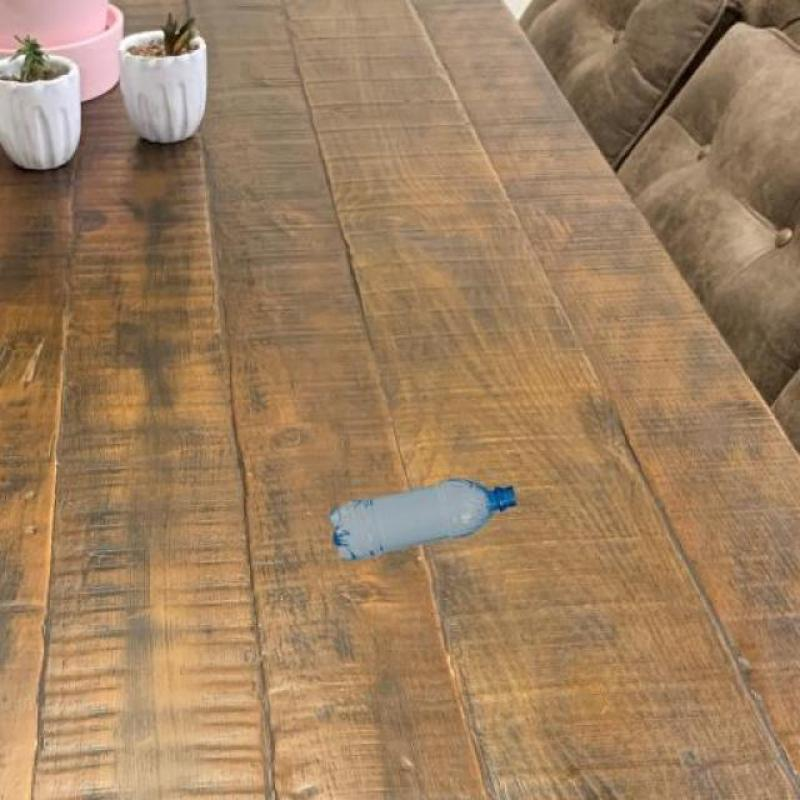botella: (323, 480, 516, 560)
